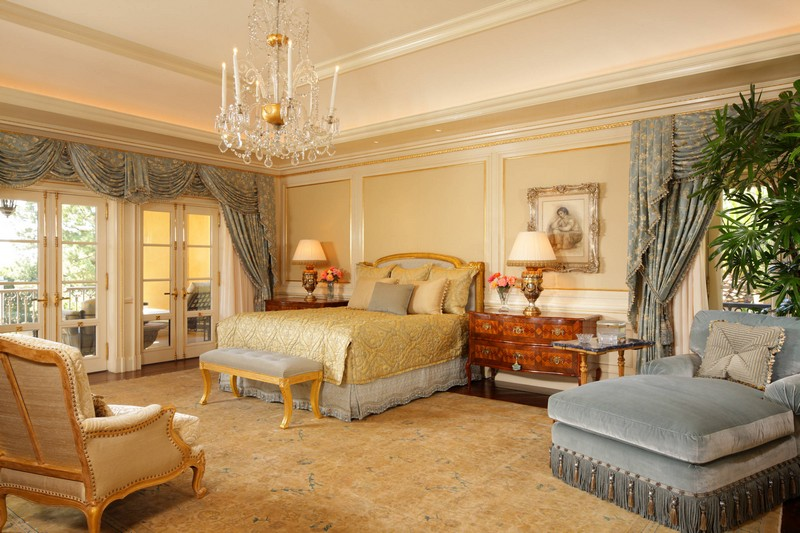bed: (217, 256, 489, 412)
lamp: (505, 230, 561, 318), (286, 235, 334, 312)
sofa: (545, 306, 797, 518), (3, 327, 210, 521)
stool: (467, 306, 599, 401), (549, 330, 659, 391)
